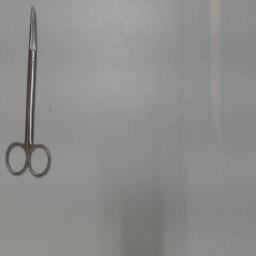Curved Mayo Scissors: (4, 4, 54, 182)
